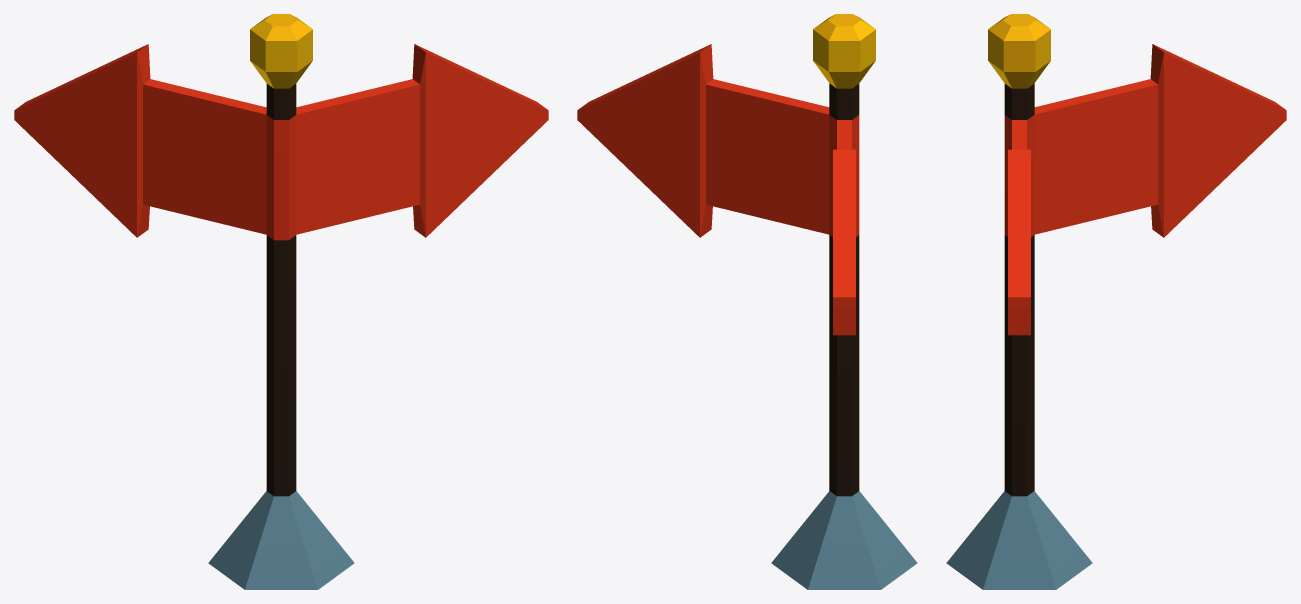
Rendered from SignDouble.fbx.
3 views of the same model, side by side, from view 1: azimuth 30°, elevation 25°; view 2: azimuth 150°, elevation 25°; view 3: azimuth 270°, elevation 25° (orthographic).
Parts seen in each view (by area): view 1: SignDouble_LOD0; view 2: SignDouble_LOD0; view 3: SignDouble_LOD0.
Boxes of the visible parts, left/top/right/bottom form: SignDouble_LOD0: left=14, top=14, right=548, bottom=589; SignDouble_LOD0: left=577, top=14, right=917, bottom=589; SignDouble_LOD0: left=946, top=14, right=1286, bottom=589.
Size of what is drawn, in the model's own units: 256 by 331 by 188.
